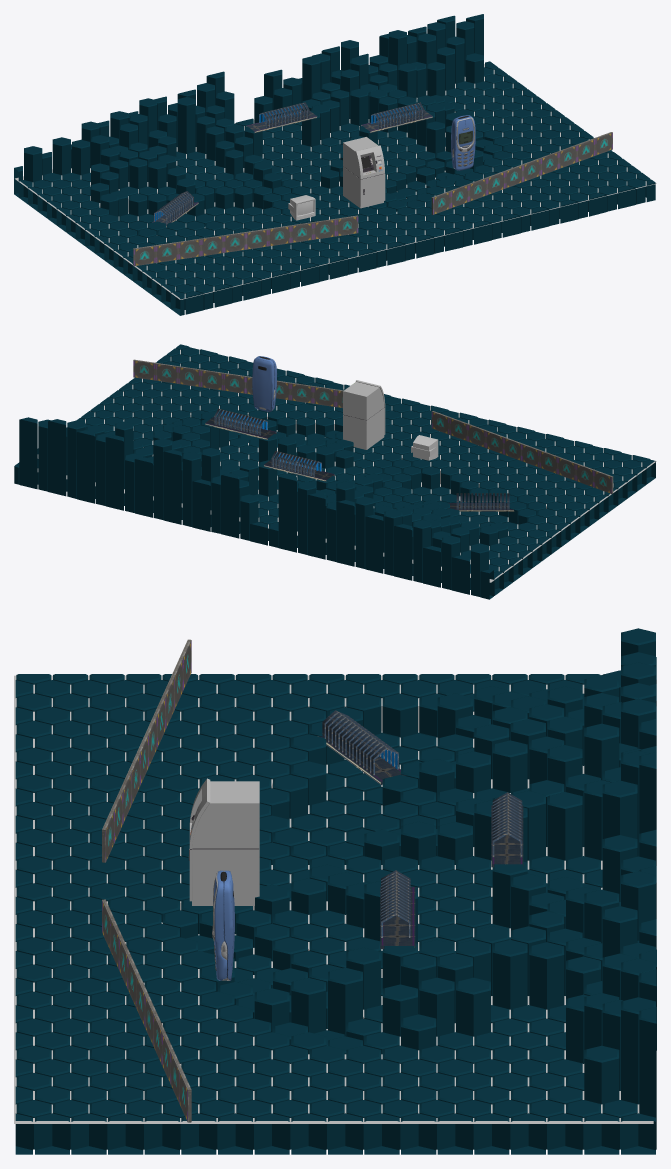
The model's file is GameVR_ground.fbx.
The picture shows the model from 3 angles, top to bottom: view 1: azimuth 30°, elevation 25°; view 2: azimuth 150°, elevation 25°; view 3: azimuth 270°, elevation 25°; orthographic projection. The views are drawn at different scales.
Parts seen in each view (by area): view 1: GameVR_hexagon, GameVR_wall, GameVR_Light, GameVR_bridge, GameVR_ATM, GameVR_Nokia6, GameVR_TV6; view 2: GameVR_hexagon, GameVR_wall, GameVR_bridge, GameVR_ATM, GameVR_Light, GameVR_Nokia6, GameVR_TV6; view 3: GameVR_hexagon, GameVR_Light, GameVR_ATM, GameVR_bridge, GameVR_wall, GameVR_Nokia6.
Part boxes in pixels (x1,y1,x2,y2): GameVR_hexagon: [14, 14, 655, 315]; GameVR_wall: [133, 132, 612, 266]; GameVR_Light: [15, 64, 656, 299]; GameVR_bridge: [152, 102, 432, 227]; GameVR_ATM: [343, 137, 385, 208]; GameVR_Nokia6: [451, 115, 475, 170]; GameVR_TV6: [288, 195, 315, 220]; GameVR_hexagon: [14, 344, 655, 599]; GameVR_wall: [133, 359, 613, 493]; GameVR_bridge: [205, 408, 514, 511]; GameVR_ATM: [343, 380, 385, 449]; GameVR_Light: [37, 348, 656, 582]; GameVR_Nokia6: [252, 356, 277, 411]; GameVR_TV6: [411, 435, 438, 460]; GameVR_hexagon: [15, 628, 656, 1154]; GameVR_Light: [14, 675, 653, 1123]; GameVR_ATM: [188, 778, 259, 905]; GameVR_bridge: [318, 710, 523, 948]; GameVR_wall: [102, 639, 191, 1122]; GameVR_Nokia6: [212, 870, 234, 980].
Bounding box in the file's own units: 71905 × 11098 × 43370.
